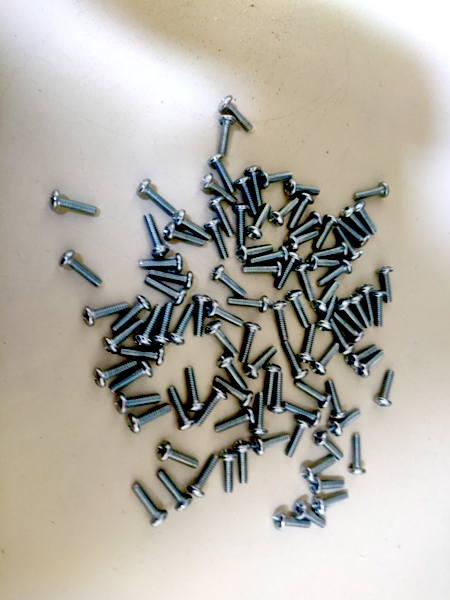shortscrew: (131, 483, 167, 527), (136, 178, 177, 216), (60, 250, 102, 287), (102, 318, 144, 355), (156, 470, 192, 513), (109, 360, 154, 393), (110, 297, 151, 332), (189, 454, 220, 498), (92, 358, 138, 387), (126, 405, 171, 434), (196, 385, 227, 427), (218, 96, 253, 133), (205, 321, 238, 359), (156, 442, 200, 470), (51, 191, 98, 217), (82, 302, 130, 327), (145, 277, 186, 306), (217, 354, 249, 391), (214, 377, 253, 407), (211, 265, 247, 297), (170, 387, 196, 431), (168, 304, 195, 346), (201, 174, 238, 204), (174, 210, 211, 240), (209, 154, 236, 195), (136, 305, 162, 347), (275, 251, 302, 291), (145, 214, 169, 258), (163, 220, 205, 245), (312, 430, 344, 462), (152, 302, 175, 346), (335, 225, 363, 261), (214, 409, 256, 433), (205, 218, 229, 260), (283, 342, 309, 380), (287, 417, 312, 456), (239, 322, 262, 364), (246, 203, 272, 240), (336, 218, 368, 248), (217, 449, 238, 494), (317, 260, 353, 286), (333, 313, 364, 343), (342, 206, 371, 238), (269, 198, 301, 227), (336, 298, 365, 330), (314, 214, 339, 251), (328, 409, 361, 437), (312, 343, 340, 376), (138, 253, 184, 273), (115, 395, 161, 415), (287, 290, 310, 330), (210, 197, 233, 237), (302, 455, 336, 482), (286, 402, 322, 427), (294, 501, 327, 528), (290, 192, 314, 229), (312, 491, 349, 515), (186, 368, 206, 412), (149, 269, 193, 289), (293, 262, 315, 302), (217, 115, 237, 157), (244, 166, 264, 208), (327, 380, 348, 420), (253, 434, 291, 456), (346, 344, 378, 370), (263, 363, 282, 406), (192, 294, 211, 337), (118, 349, 166, 366), (356, 350, 385, 378), (270, 301, 290, 341), (291, 212, 323, 237), (298, 323, 317, 364), (268, 371, 286, 414), (349, 434, 367, 476), (250, 393, 268, 435), (354, 201, 376, 235), (349, 294, 371, 328), (353, 181, 390, 201), (375, 370, 395, 407), (235, 440, 252, 483), (227, 296, 270, 313), (242, 261, 284, 278), (236, 244, 273, 263), (273, 512, 311, 530), (258, 171, 293, 190), (285, 180, 321, 198), (358, 285, 375, 323), (286, 231, 318, 251), (309, 477, 346, 494), (378, 267, 393, 304), (372, 291, 386, 327)
